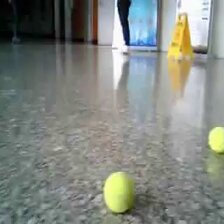tennis: (103, 171, 137, 214), (208, 125, 224, 154)
